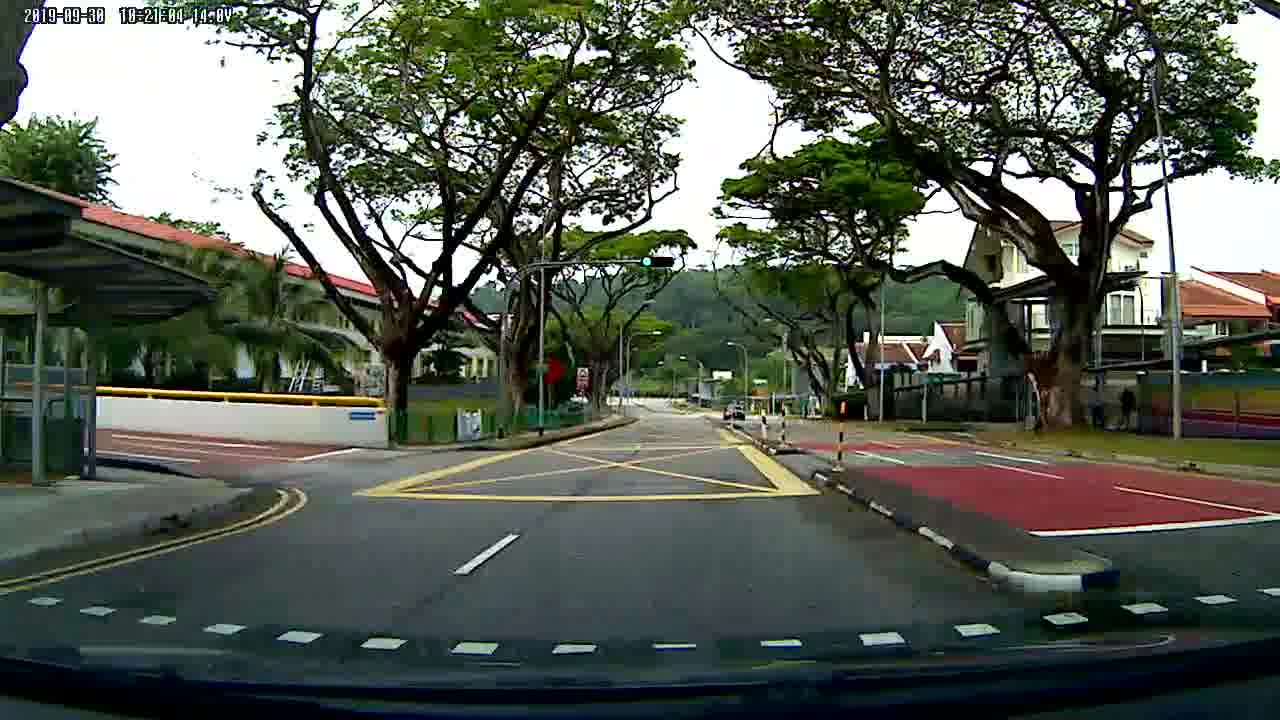car: (718, 403, 748, 424)
